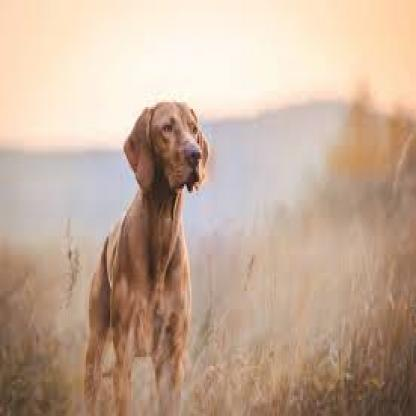Hungarian Vizsla: (83, 86, 208, 416)
